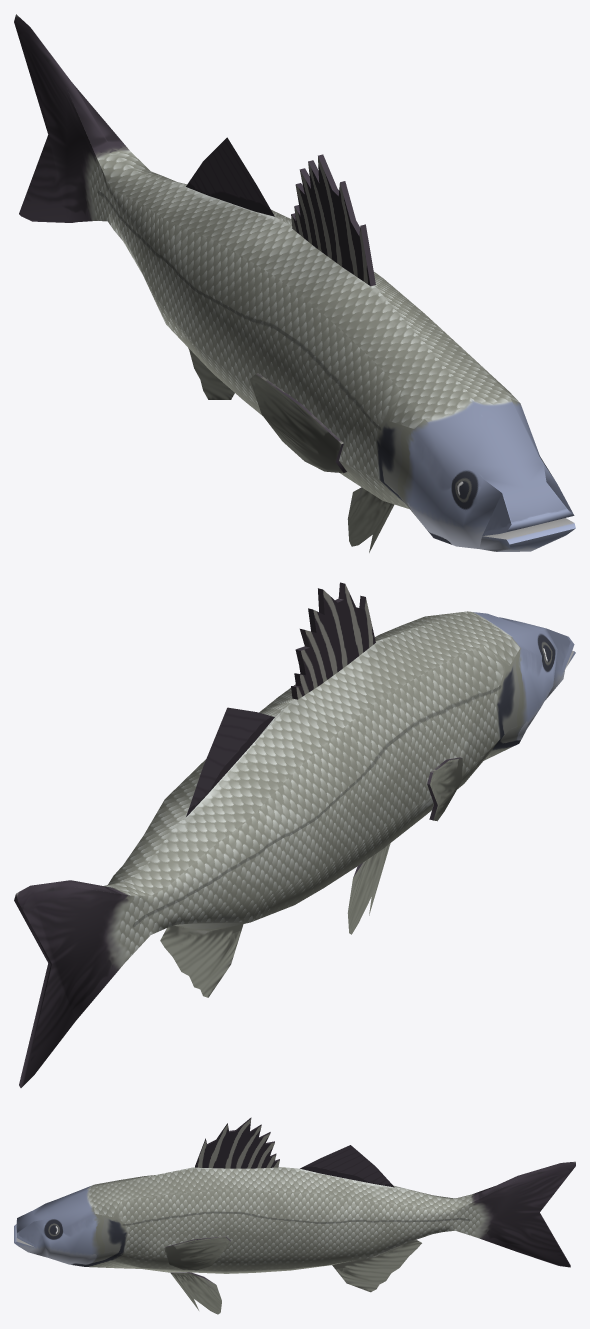
File: Dicentrarchus_labrax.fbx
3 views of the same model, one above another, from view 1: azimuth 30°, elevation 25°; view 2: azimuth 150°, elevation 25°; view 3: azimuth 270°, elevation 25° (orthographic). The views are drawn at different scales.
Parts seen in each view (by area): view 1: Lubina; view 2: Lubina; view 3: Lubina.
Boxes of the visible parts, <box> form: Lubina: <box>14,14,575,552</box>; Lubina: <box>14,582,575,1087</box>; Lubina: <box>14,1117,575,1314</box>.
Bounding box in the file's own units: 93.56 × 183 × 474.
Materials: 1 (1 with a texture image).
